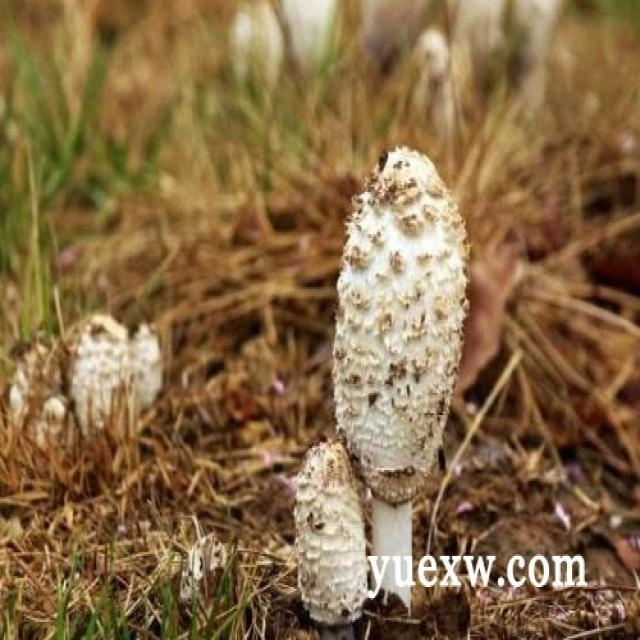Coprinus comatus: (331, 144, 468, 608), (300, 436, 362, 616), (78, 310, 126, 437), (134, 320, 163, 420)
